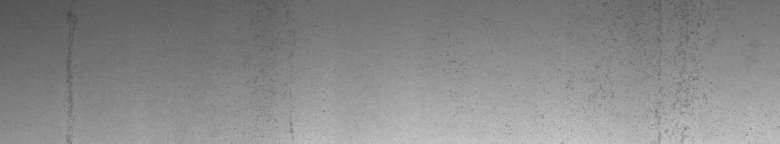ib: (604, 4, 704, 136)
